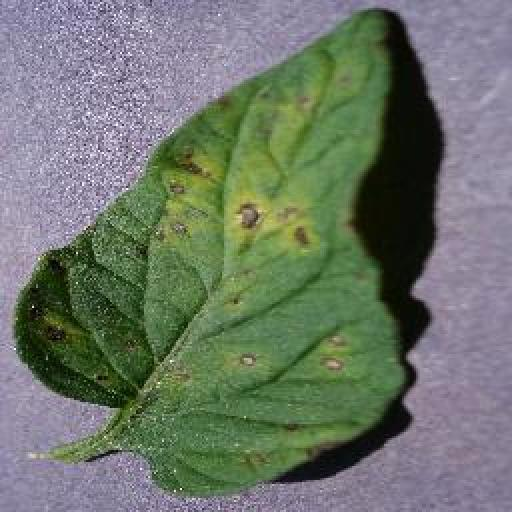disease_tomato: (16, 8, 398, 496)
